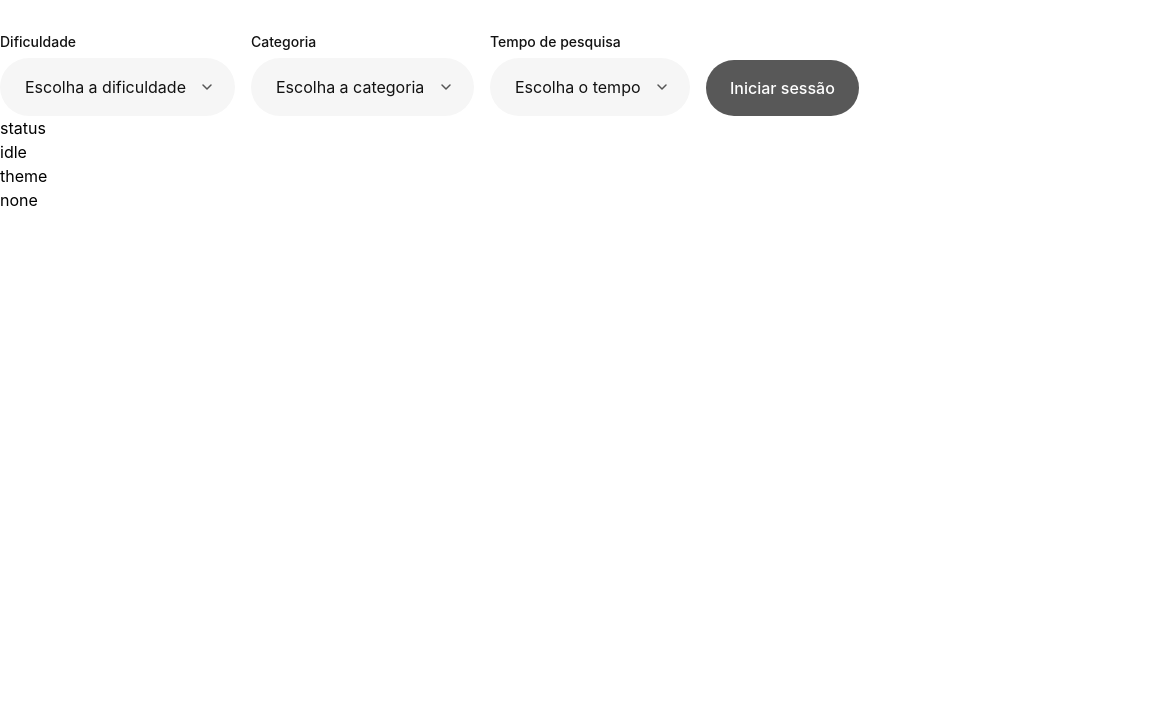
PracticeConfigForm › asks a visitor for an account without opening another dialog when the trial was already used
Select "Equilibrado" in the dropdown labelled "Dificuldade": (118,87) [0,58,235,116]
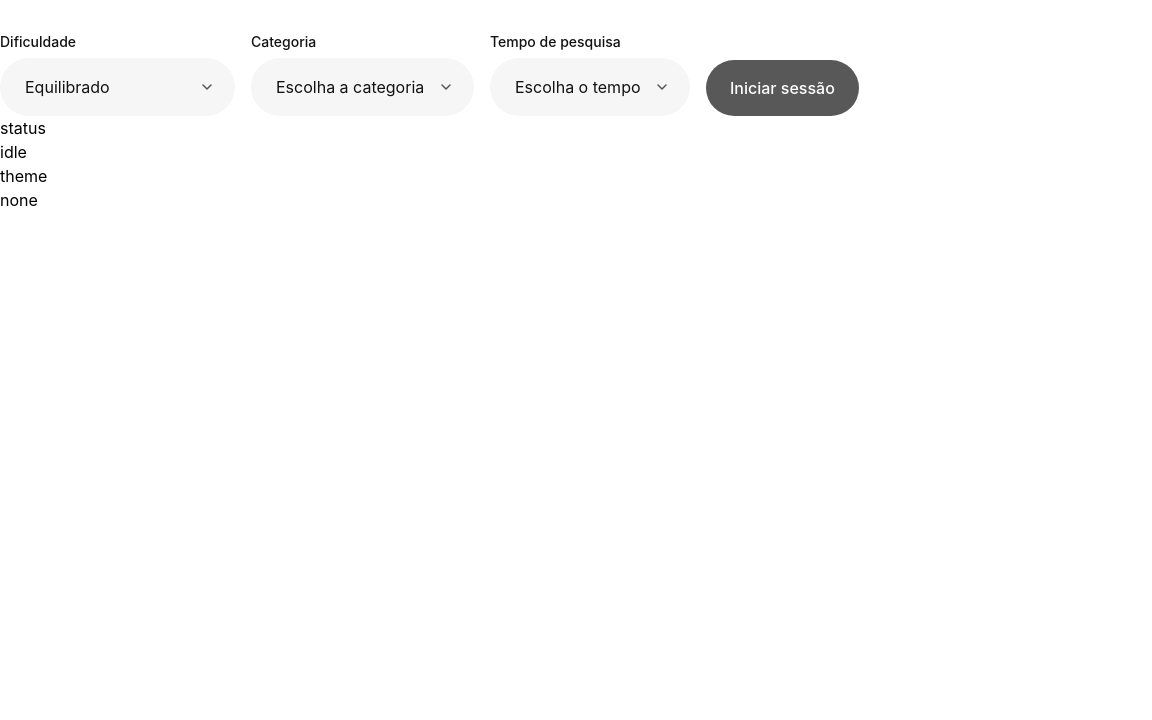
Select "Foco" in the dropdown labelled "Categoria": (362,87) [251,58,474,116]
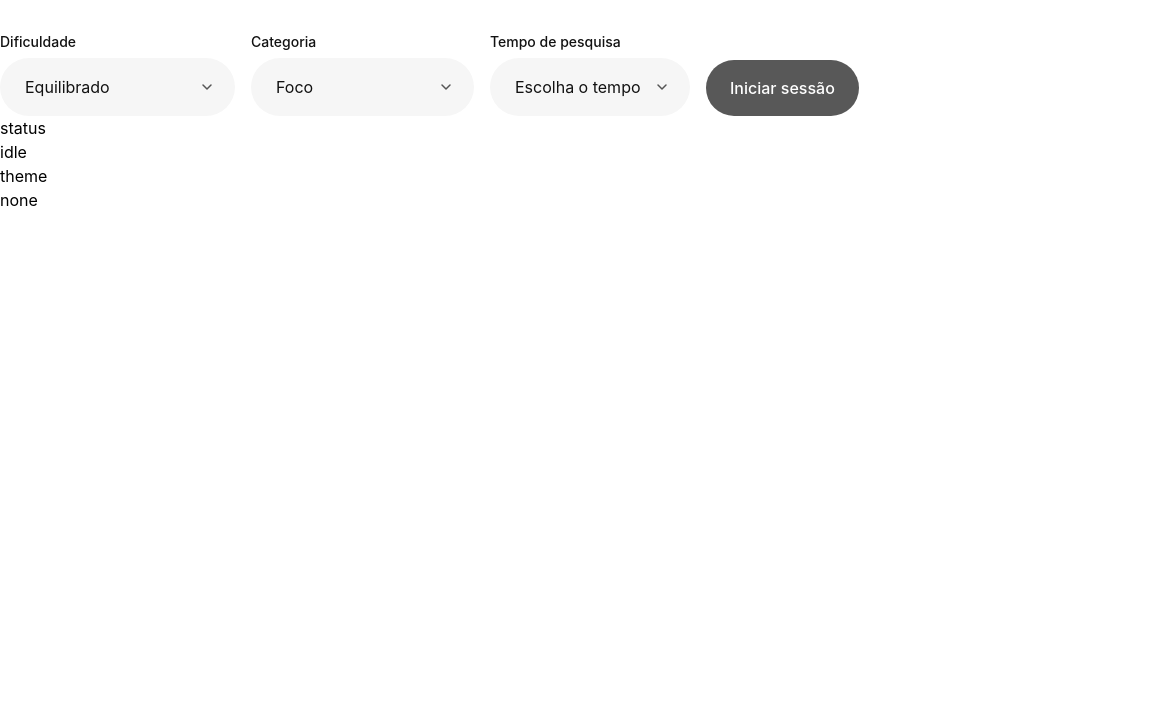
Select "4 minutos" in the dropdown labelled "Tempo de pesquisa": (590,87) [490,58,690,116]
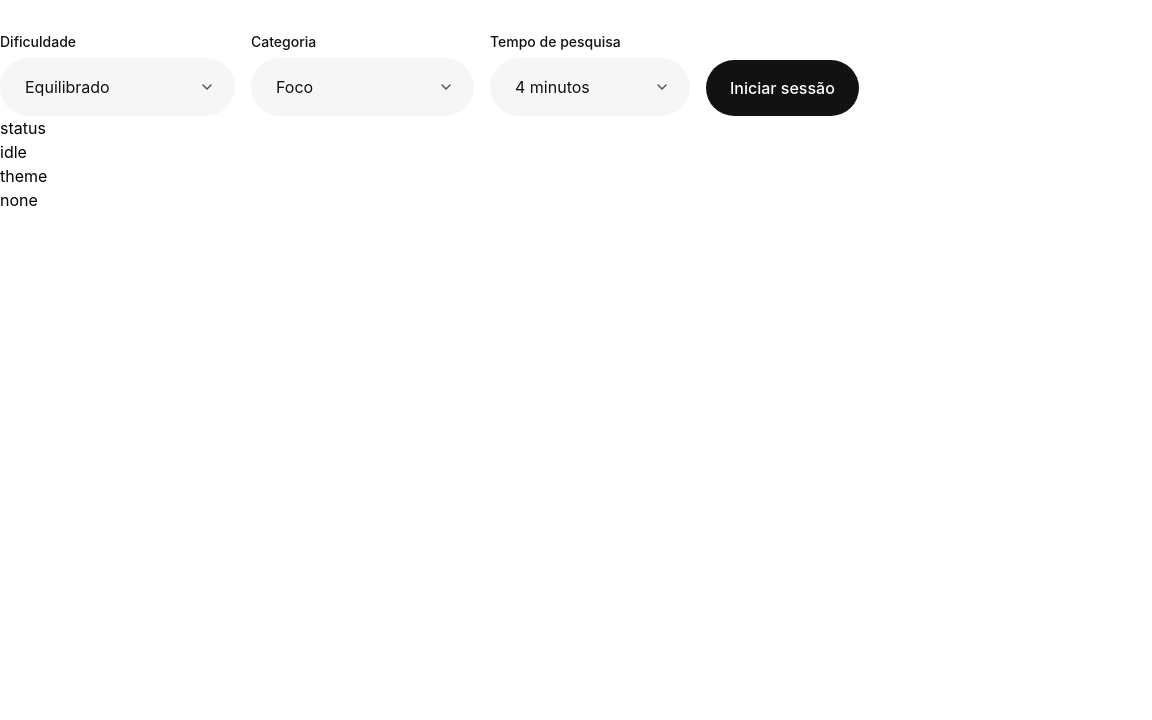
Click the button "Iniciar sessão": (782,88) [706,60,859,116]
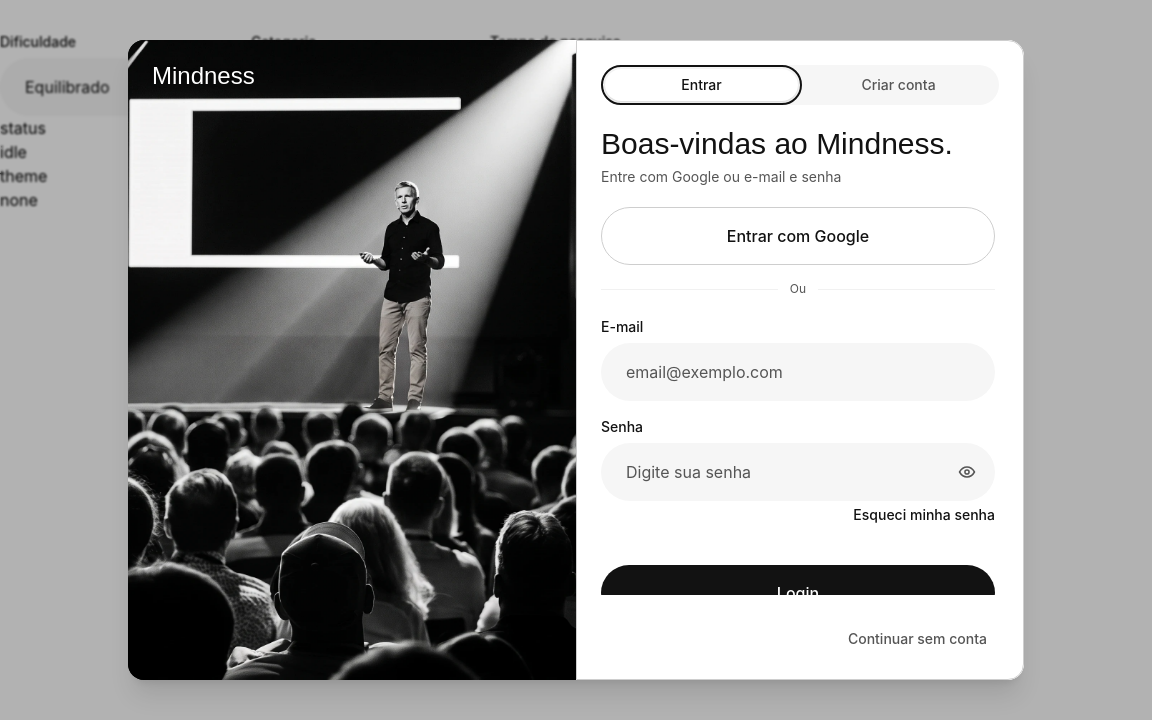
Click the button "Continuar sem conta": (917,639) [836,623,999,655]
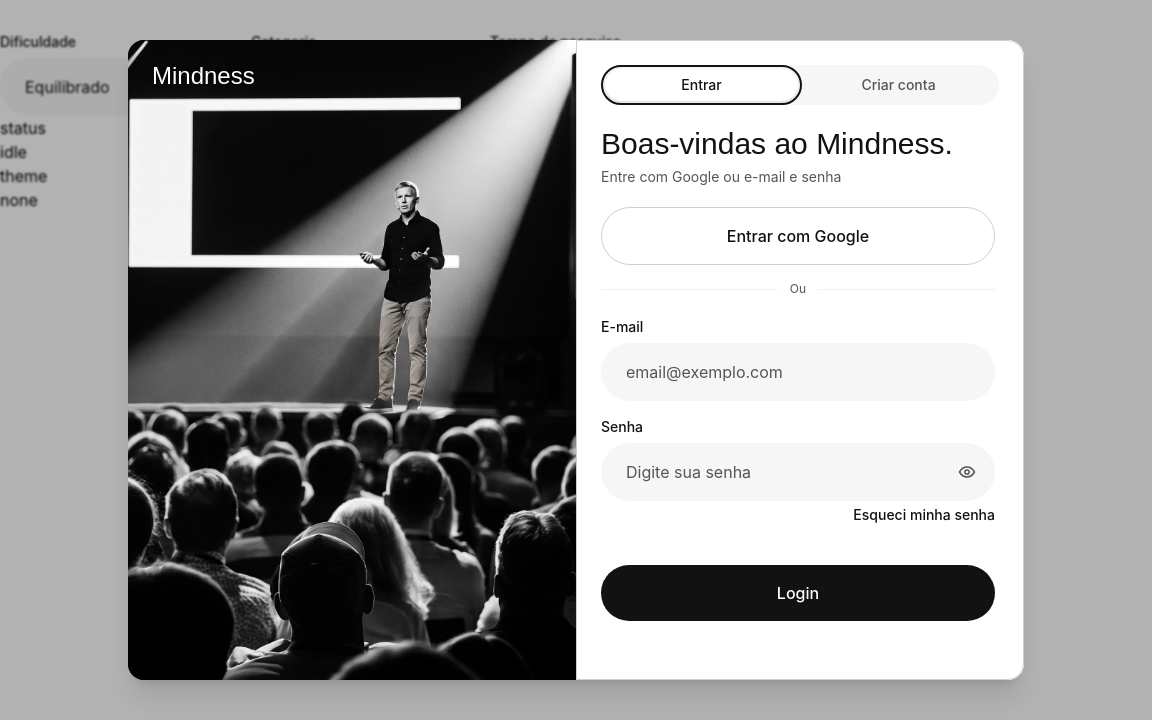
Expected: the dialog named "É bom ter você de volta." is shown
Expected: the number of dialogs is 1
Expected: the button "Continuar sem conta" is gone
